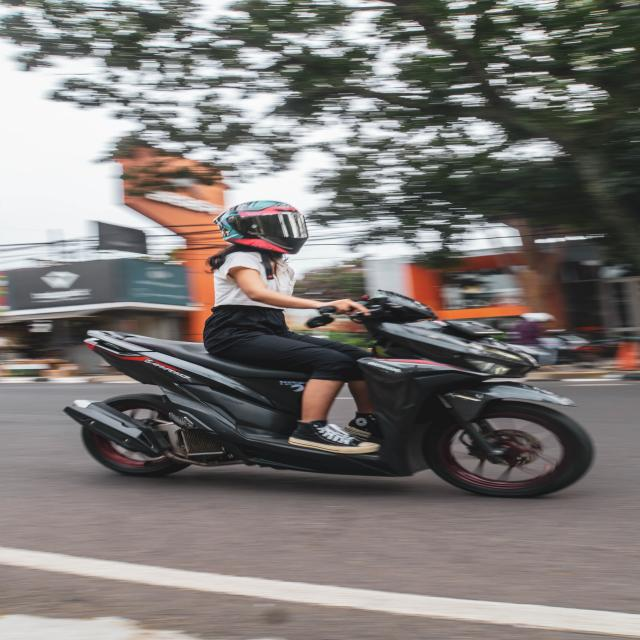With Helmet: (55, 188, 611, 511)
